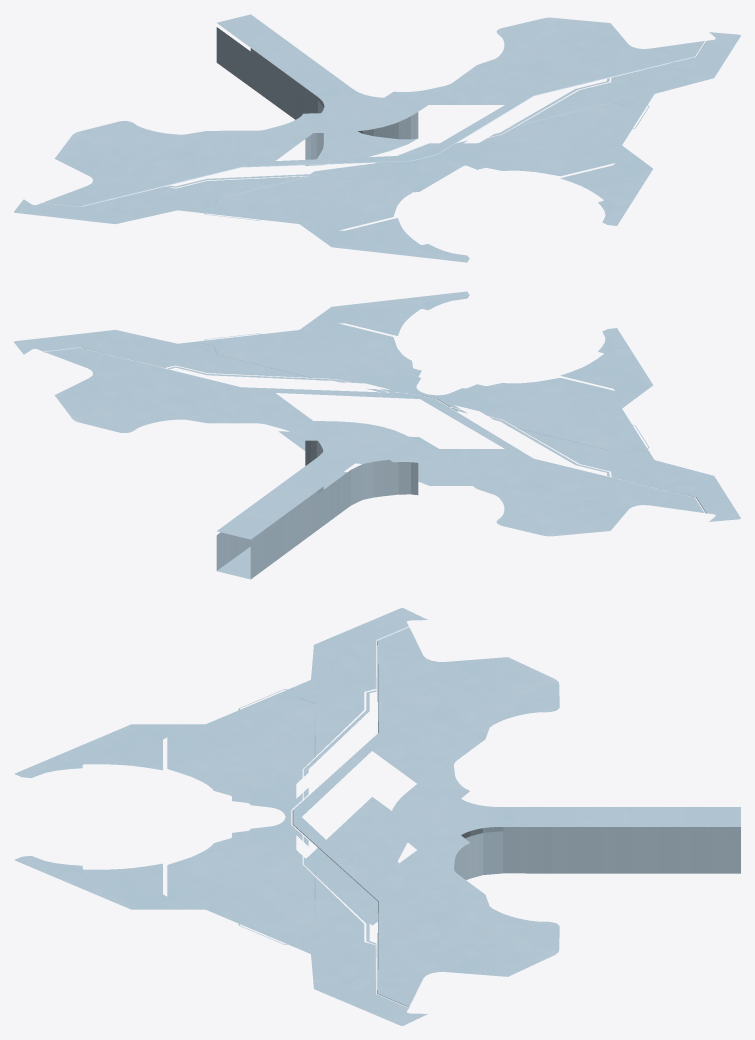
Rendered from mesh_1002_yjy_sd007_c.FBX.
The picture shows the model from 3 angles, top to bottom: view 1: azimuth 30°, elevation 25°; view 2: azimuth 150°, elevation 25°; view 3: azimuth 270°, elevation 25°; orthographic projection. The views are drawn at different scales.
Parts seen in each view (by area): view 1: mesh_1002_yjy_sd007_c; view 2: mesh_1002_yjy_sd007_c; view 3: mesh_1002_yjy_sd007_c.
Boxes of the visible parts, left/top/right/bottom form: mesh_1002_yjy_sd007_c: left=14, top=14, right=740, bottom=262; mesh_1002_yjy_sd007_c: left=14, top=291, right=740, bottom=579; mesh_1002_yjy_sd007_c: left=14, top=608, right=740, bottom=1025.
Bounding box in the file's own units: 8592 × 451 × 6320.
1 material, 1 textured.
